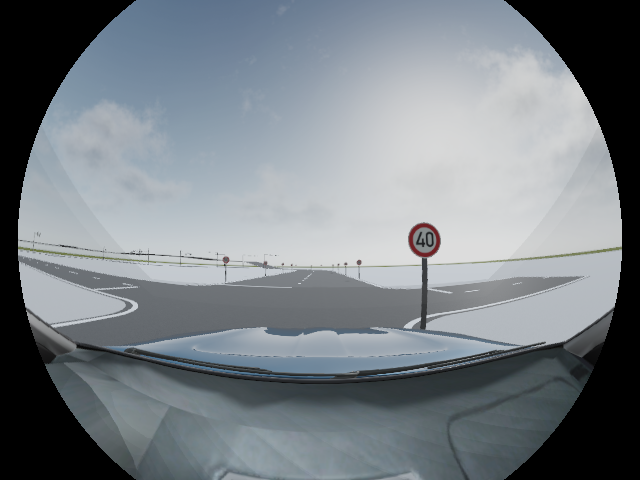Speed Limit 40: (408, 221, 441, 258)
